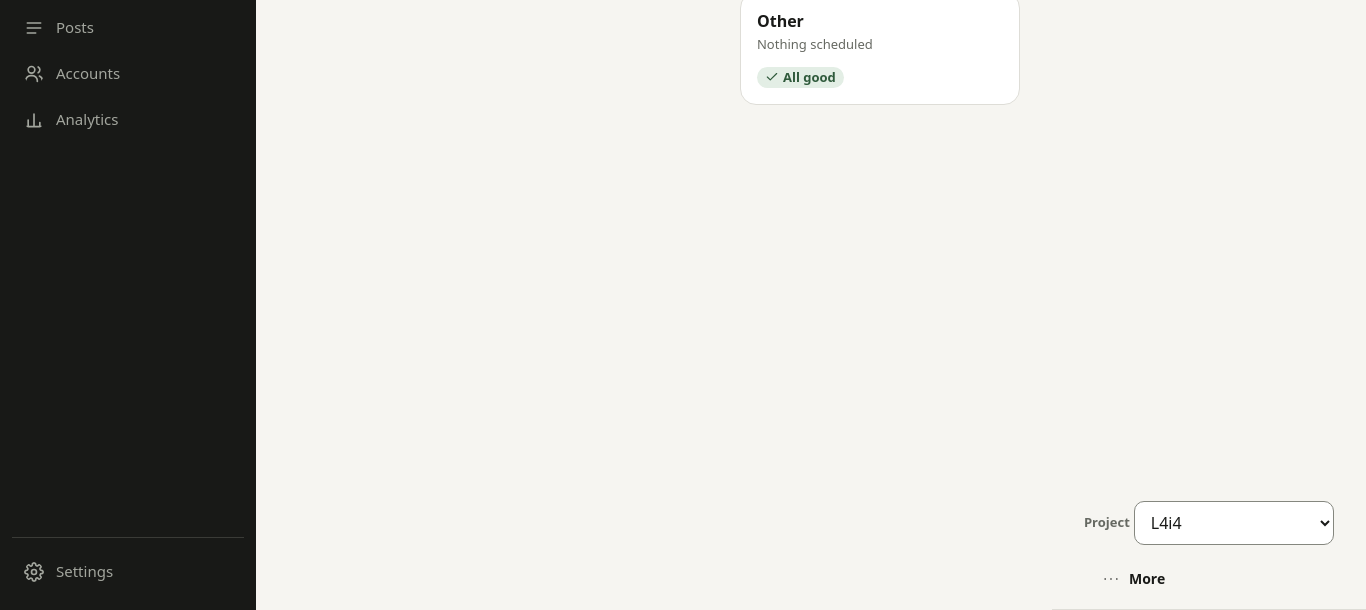
app shell › puts Settings in More on phones
(page scrolled)
Click the button "More": (1133, 579) [1084,557,1182,601]
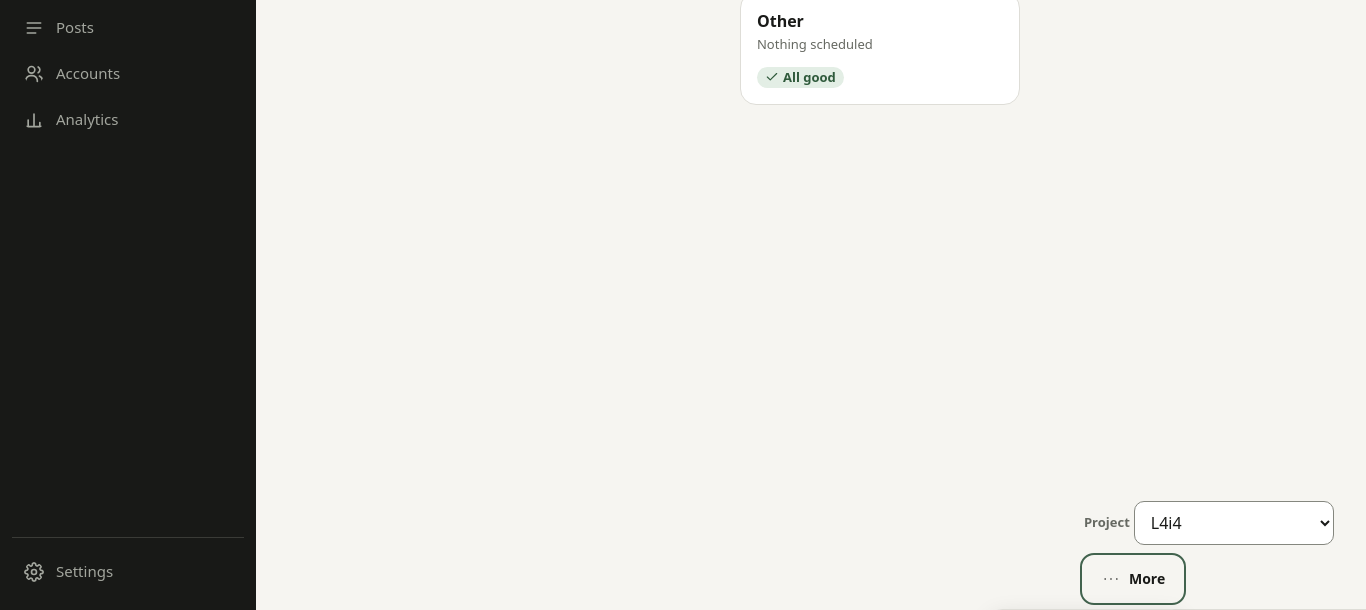
Press Escape
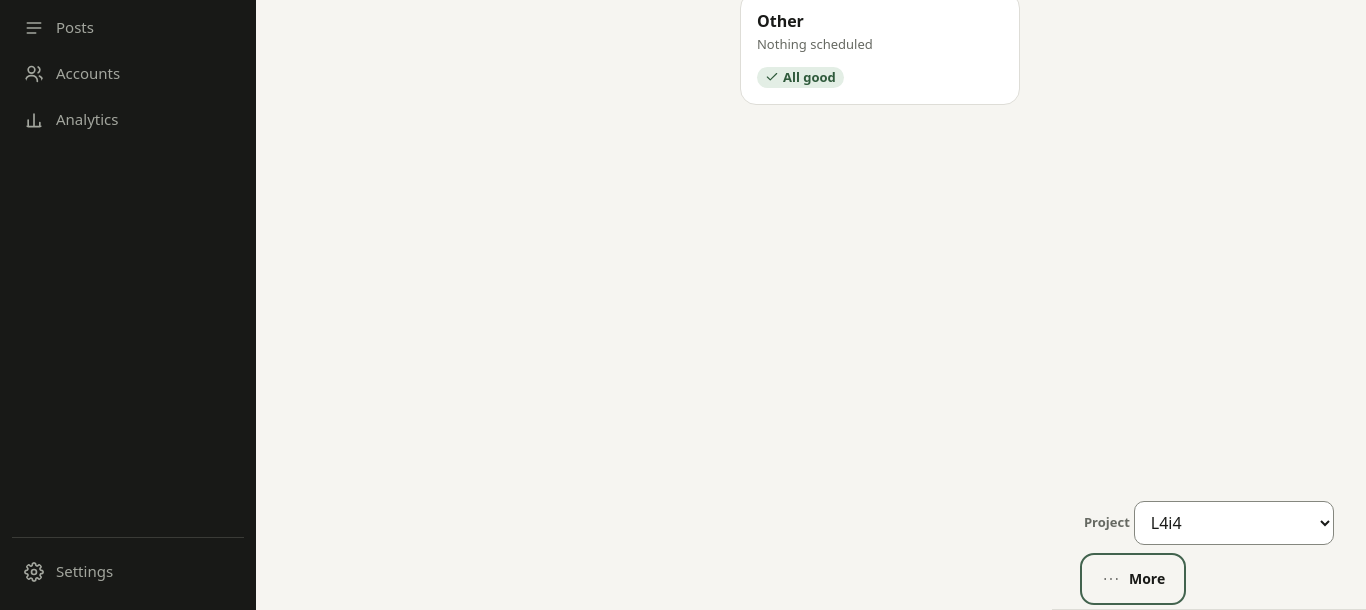
Click the button "More": (1133, 579) [1084,557,1182,601]
(page scrolled)
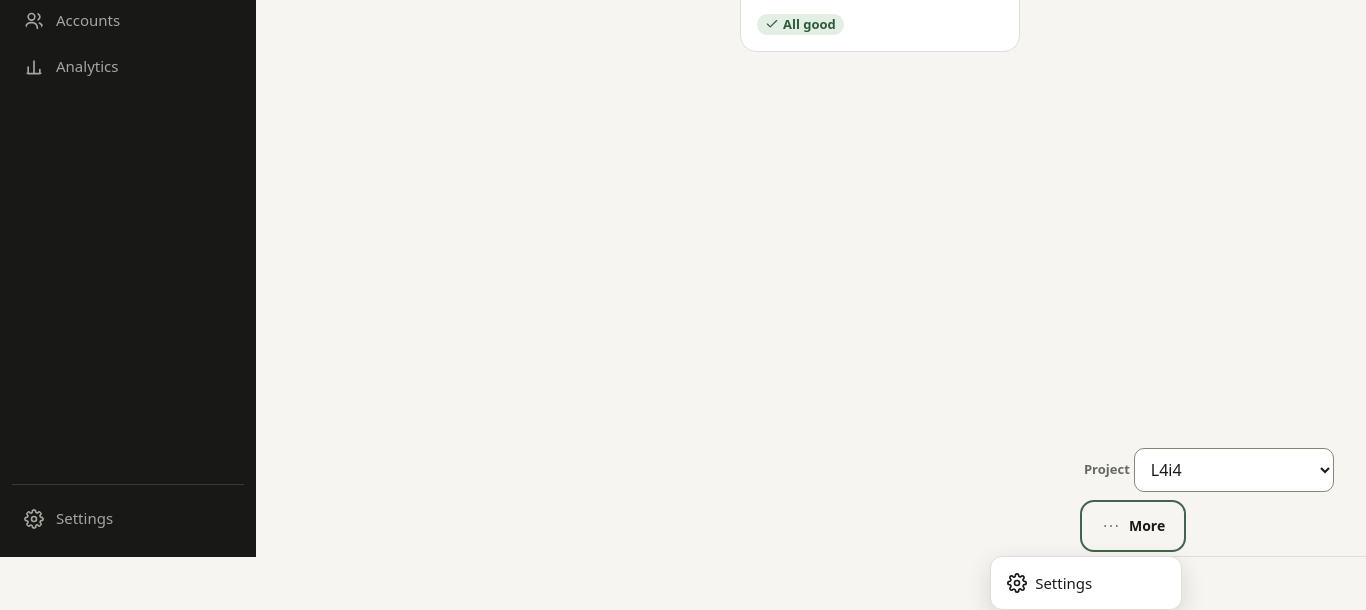
Click the 2nd link "Settings": (1050, 583) [1007,573,1092,593]
(page scrolled)
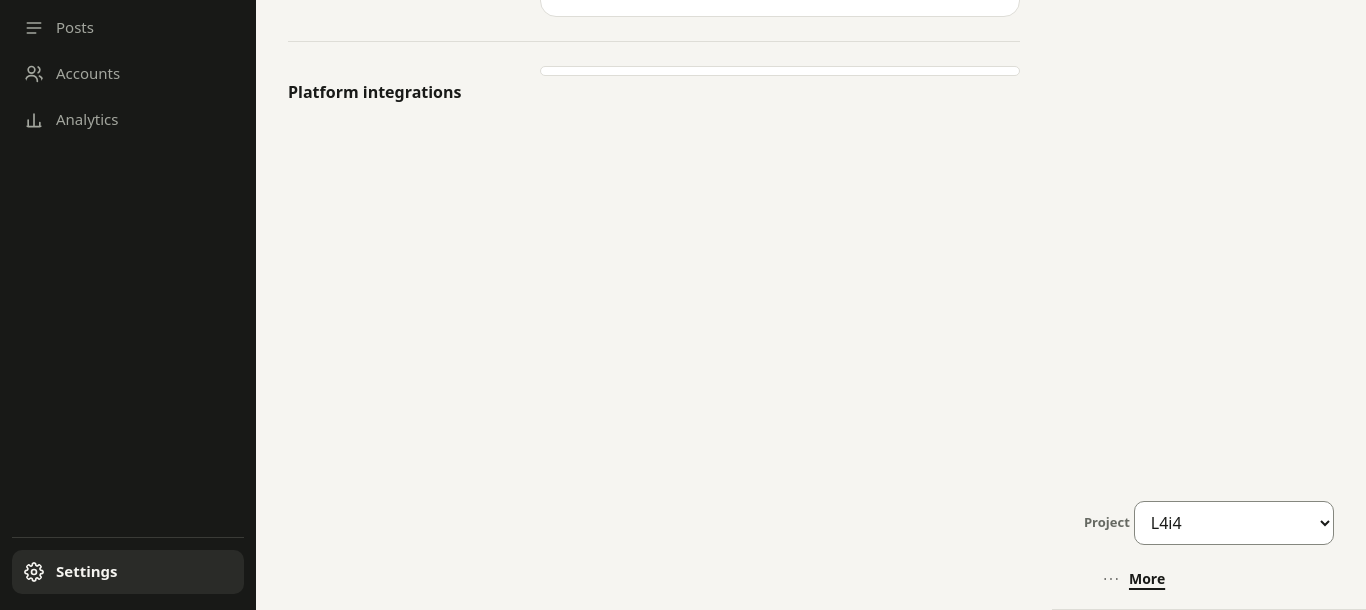
Expected: the button "More" is collapsed, [1084,557,1182,601]
